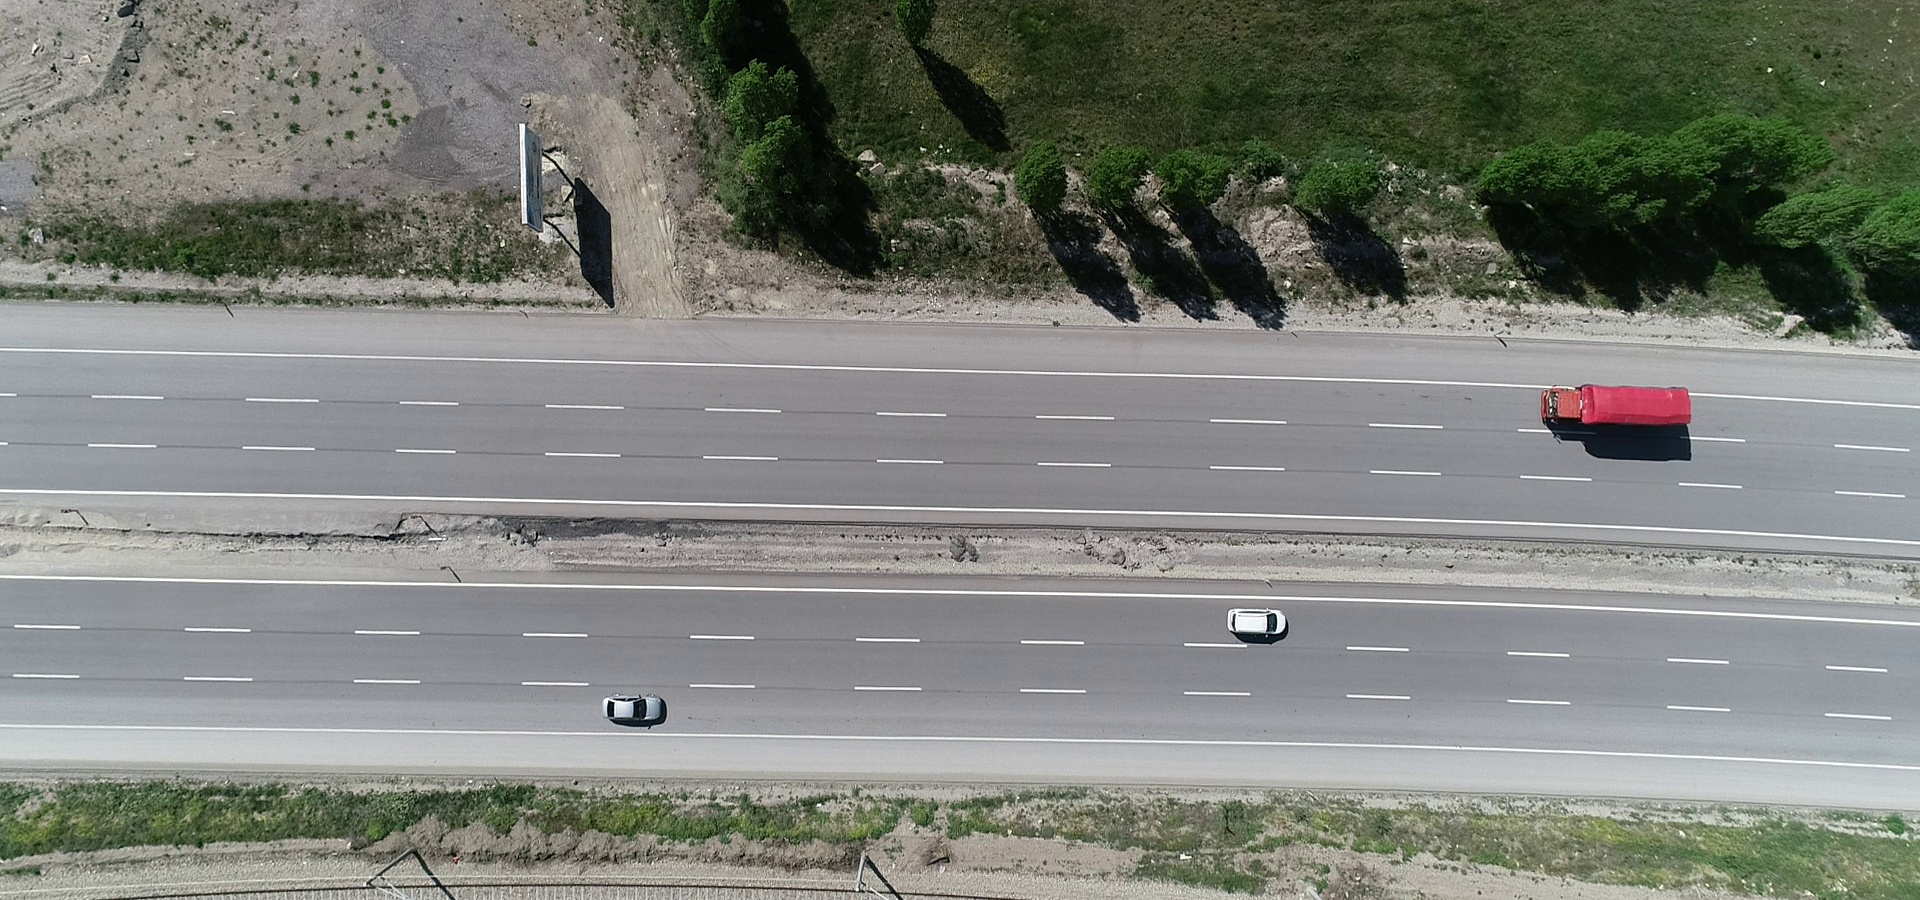arac: (1532, 376, 1700, 444), (598, 681, 673, 724), (1224, 598, 1289, 644)
